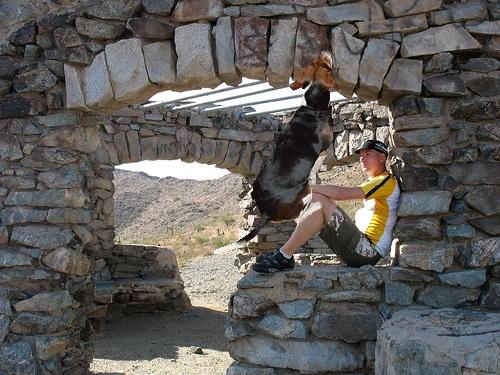tampered: (214, 50, 341, 254)
